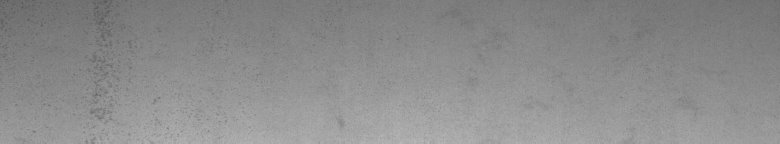ib: (89, 12, 161, 124)
